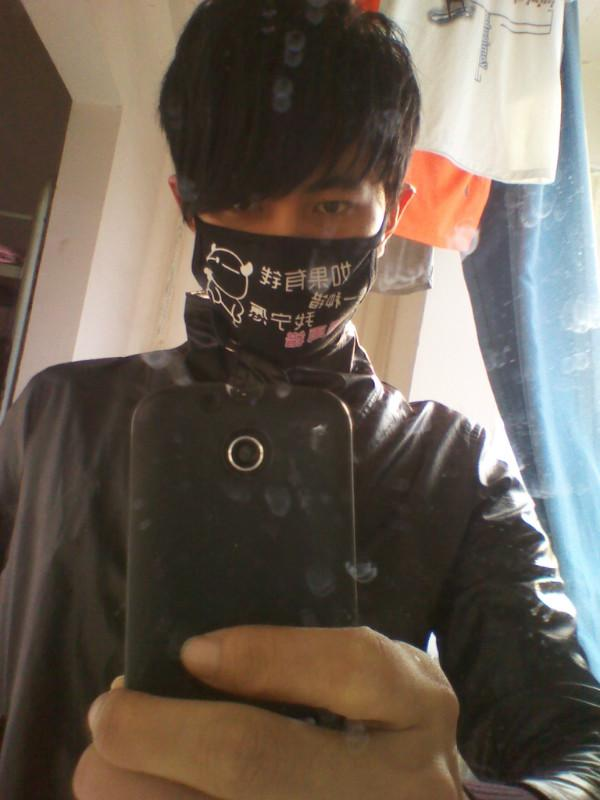OK: (199, 156, 379, 336)
